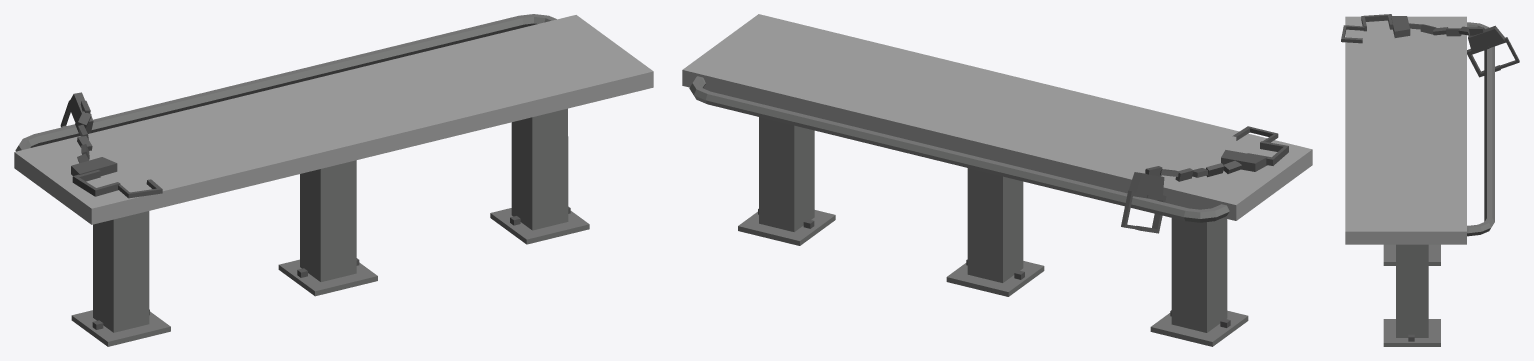
Rendered from DetentionBench.glb.
3 views of the same model, side by side, from view 1: azimuth 30°, elevation 25°; view 2: azimuth 150°, elevation 25°; view 3: azimuth 270°, elevation 25° (orthographic). The views are drawn at different scales.
Parts seen in each view (by area): view 1: detentionBench; view 2: detentionBench; view 3: detentionBench.
Part boxes in pixels (x1,y1,x2,y2): detentionBench: (14, 14, 653, 346); detentionBench: (682, 14, 1312, 346); detentionBench: (1341, 14, 1519, 346).
Size of the model in its own units: 1.86 by 0.6075 by 0.652.
Materials: 1 (1 with a texture image).
